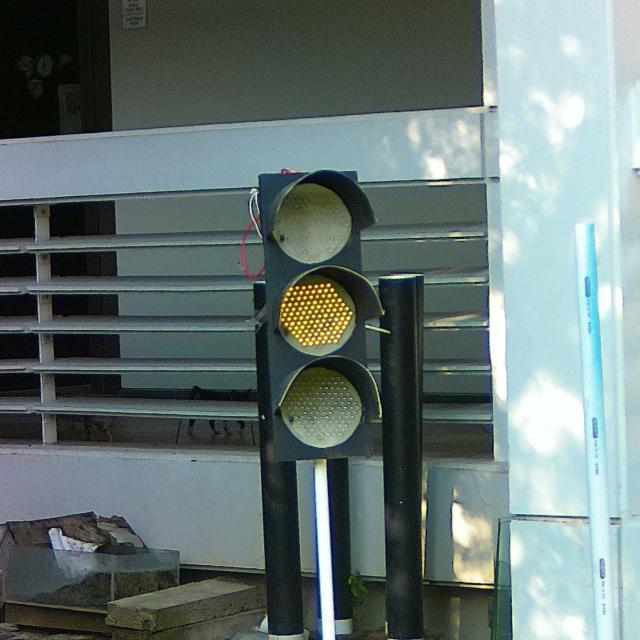yellow_light: (262, 168, 383, 465)
